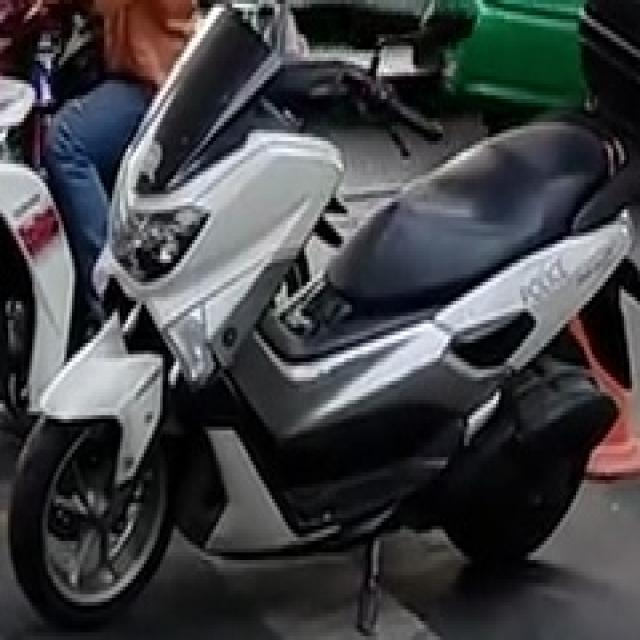helmet: (5, 0, 637, 632)
tyre: (5, 408, 174, 624)
